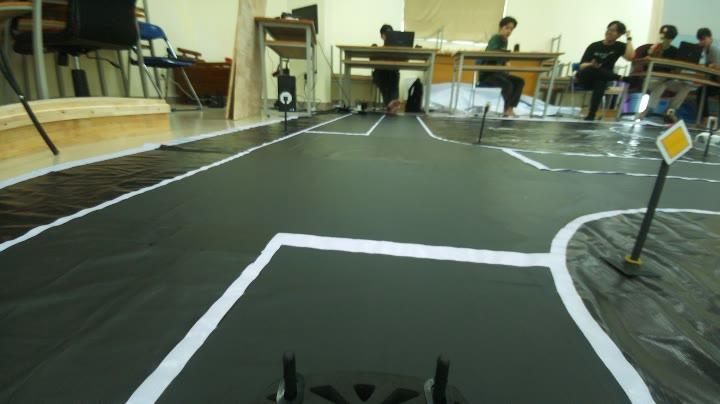priority: (651, 111, 705, 169)
